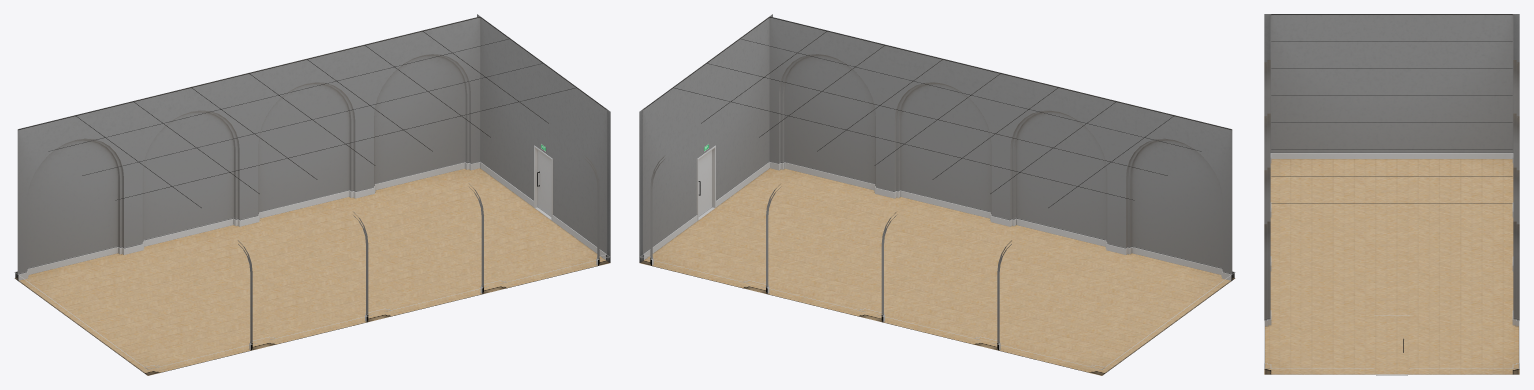
File: vr_gallery.glb
The picture shows the model from 3 angles, left to right: view 1: azimuth 30°, elevation 25°; view 2: azimuth 150°, elevation 25°; view 3: azimuth 270°, elevation 25°; orthographic projection. The views are drawn at different scales.
Visible parts, largest first — view 1: VR Gallery; view 2: VR Gallery; view 3: VR Gallery.
Part boxes in pixels (x1,y1,x2,y2): VR Gallery: [14, 14, 610, 375]; VR Gallery: [639, 14, 1235, 375]; VR Gallery: [1264, 14, 1519, 375].
Bounding box in the file's own units: 16.09 × 5 × 8.
Materials: 1 (1 with a texture image).
